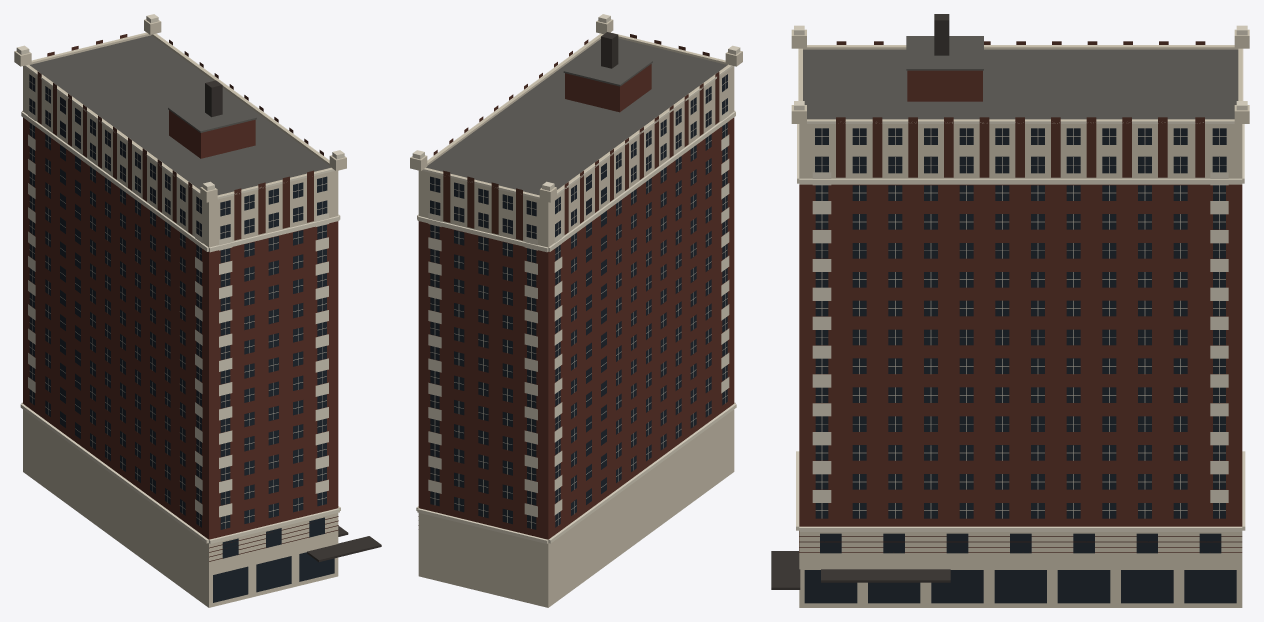
File: grady-manning-hotel.glb
The picture shows the model from 3 angles, left to right: view 1: azimuth 30°, elevation 25°; view 2: azimuth 150°, elevation 25°; view 3: azimuth 270°, elevation 25°; orthographic projection. The views are drawn at different scales.
Visible parts, largest first — view 1: grady_brick, grady_glass, grady_stone, grady_roof, grady_trim, grady_sash, grady_brick2, grady_dark; view 2: grady_brick, grady_stone, grady_glass, grady_roof, grady_trim, grady_sash, grady_brick2, grady_dark; view 3: grady_brick, grady_glass, grady_stone, grady_roof, grady_trim, grady_brick2, grady_sash, grady_dark, grady_joint.
Part boxes in pixels (left/top/right/bottom): grady_brick: left=23, top=110, right=338, bottom=539; grady_glass: left=29, top=74, right=334, bottom=602; grady_stone: left=14, top=19, right=346, bottom=607; grady_roof: left=30, top=35, right=330, bottom=195; grady_trim: left=16, top=14, right=344, bottom=543; grady_sash: left=29, top=76, right=326, bottom=528; grady_brick2: left=37, top=34, right=323, bottom=240; grady_dark: left=205, top=80, right=381, bottom=561; grady_brick: left=418, top=64, right=734, bottom=539; grady_stone: left=410, top=19, right=742, bottom=607; grady_glass: left=430, top=74, right=727, bottom=529; grady_roof: left=426, top=38, right=727, bottom=195; grady_trim: left=412, top=14, right=740, bottom=543; grady_sash: left=430, top=76, right=727, bottom=528; grady_brick2: left=433, top=34, right=719, bottom=240; grady_dark: left=601, top=32, right=618, bottom=68; grady_brick: left=799, top=70, right=1242, bottom=526; grady_glass: left=804, top=128, right=1236, bottom=603; grady_stone: left=791, top=29, right=1249, bottom=607; grady_roof: left=803, top=36, right=1238, bottom=119; grady_trim: left=794, top=25, right=1247, bottom=531; grady_brick2: left=836, top=41, right=1205, bottom=177; grady_sash: left=815, top=128, right=1226, bottom=518; grady_dark: left=771, top=14, right=950, bottom=589; grady_joint: left=799, top=531, right=1242, bottom=552.
Size of the model in its own units: 21.2 by 56.5 by 44.3.
